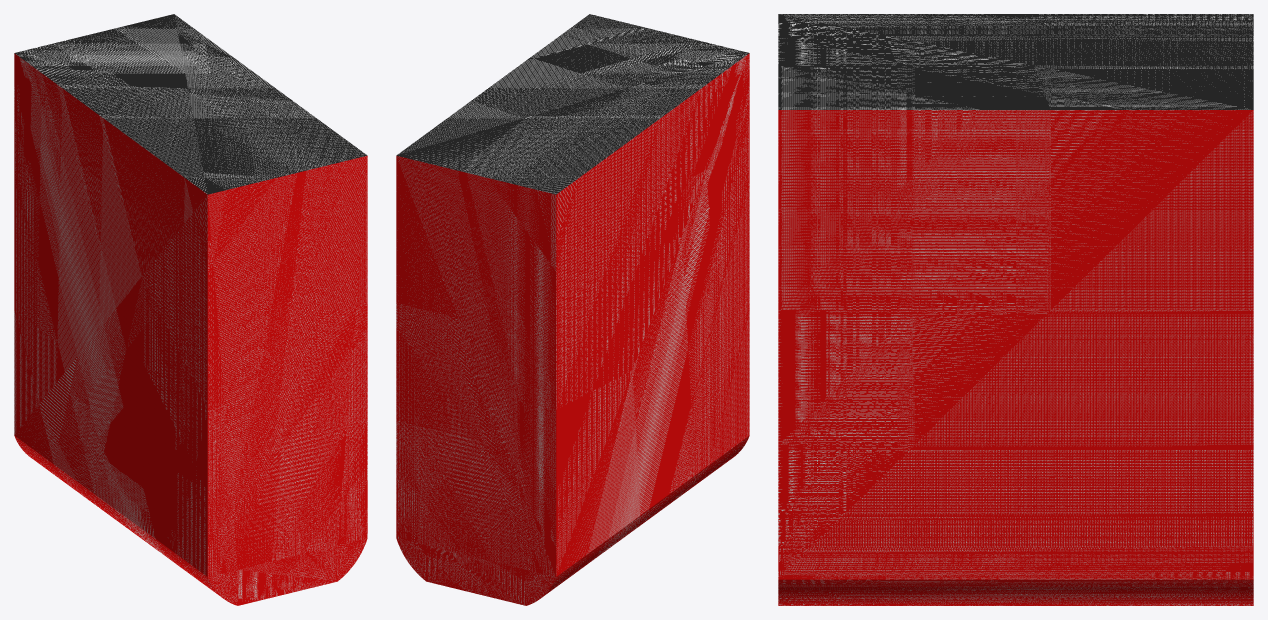
3 views of the same model, side by side, from view 1: azimuth 30°, elevation 25°; view 2: azimuth 150°, elevation 25°; view 3: azimuth 270°, elevation 25° (orthographic). The views are drawn at different scales.
Visible parts, largest first — view 1: dell dimension extreme gaming computer; view 2: dell dimension extreme gaming computer; view 3: dell dimension extreme gaming computer.
Part boxes in pixels (x1=…): dell dimension extreme gaming computer: x1=14, y1=14, x2=367, y2=605; dell dimension extreme gaming computer: x1=396, y1=14, x2=749, y2=605; dell dimension extreme gaming computer: x1=778, y1=14, x2=1253, y2=605.
Bounding box in the file's own units: 29.13 × 73.23 × 61.02.
